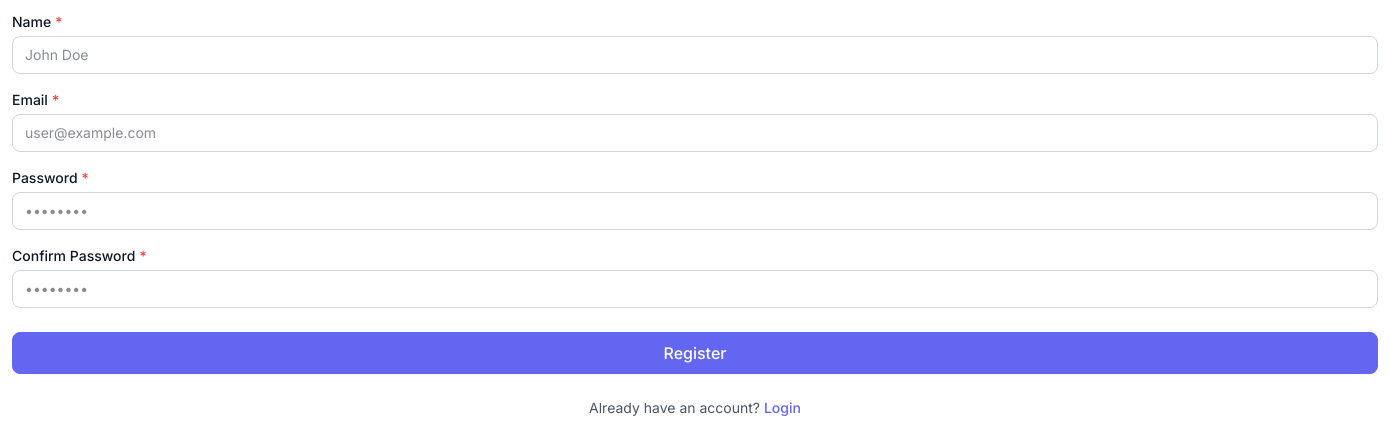
RegisterForm › shows loading state during submission
The width and height of the screenshot is (1390, 433).
Type "New User" into the field with test id "register-name-input" at (695, 55), box [12,36,1378,74]
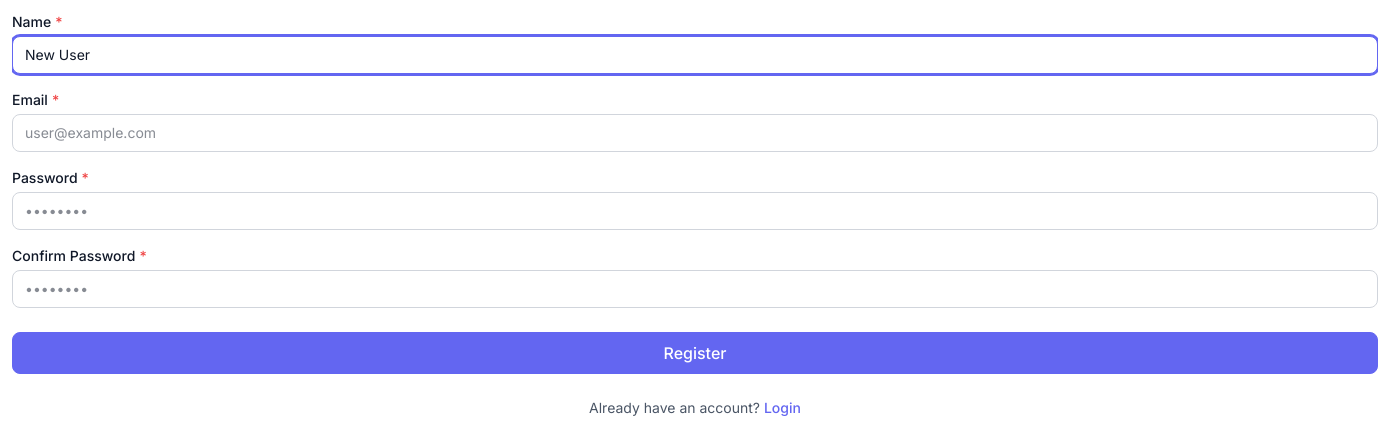
Type "newuser@example.com" into the field with test id "register-email-input" at (695, 133), box [12,114,1378,152]
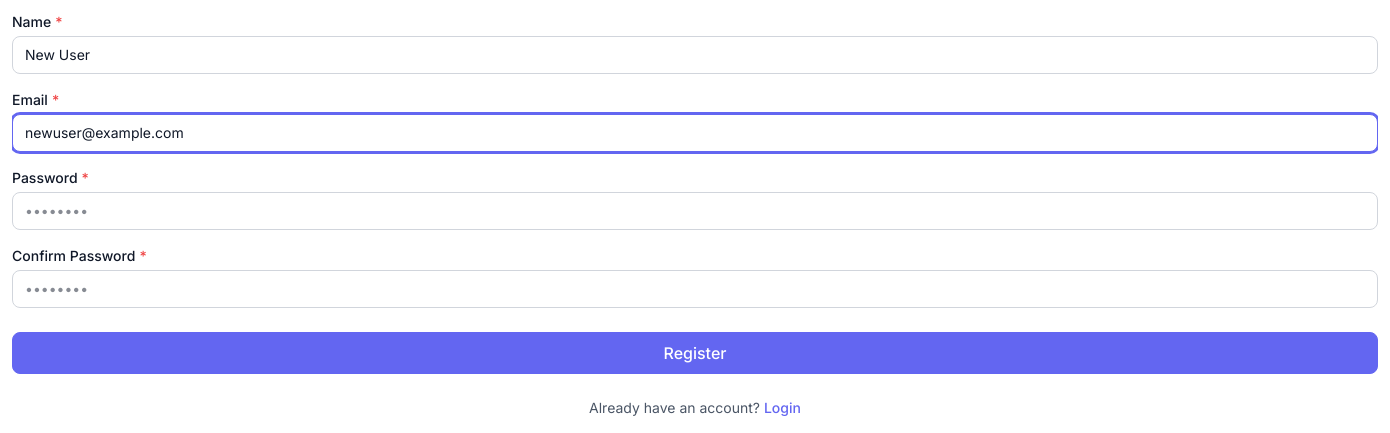
Type "123456" into the password field with test id "register-password-input" at (695, 211), box [12,192,1378,230]
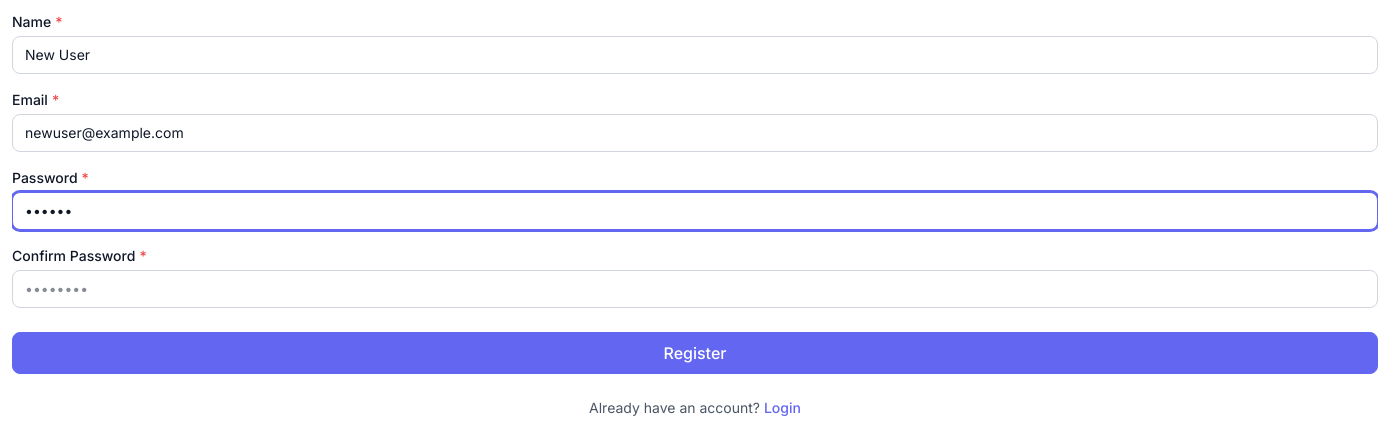
Type "123456" into the password field with test id "register-confirm-password-input" at (695, 289), box [12,270,1378,308]
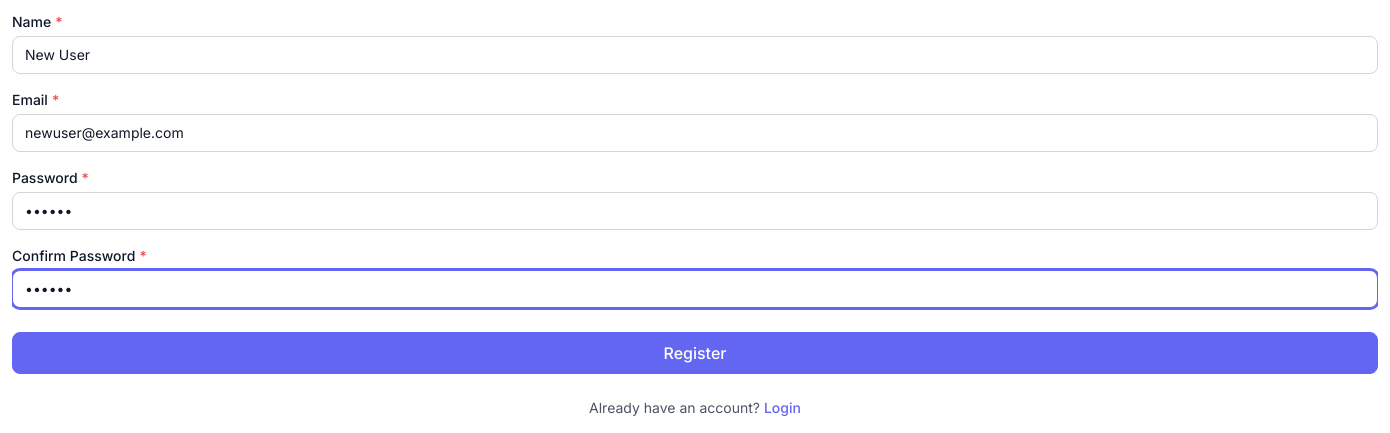
Click the button with test id "register-submit-btn" at (695, 353), box [12,332,1378,374]
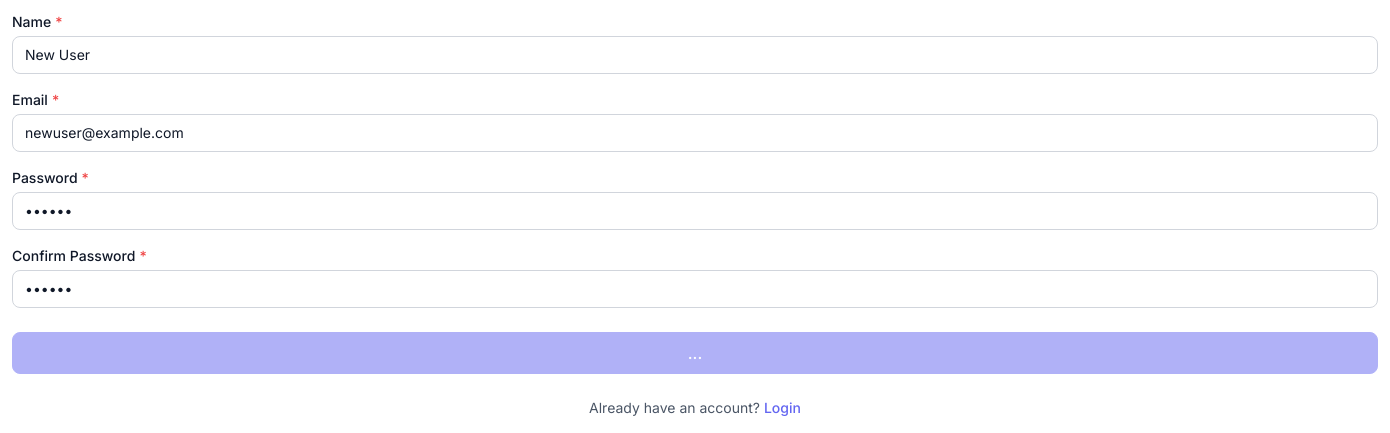
Expected: the button with test id "register-submit-btn" reads "...", [12,332,1378,374]
